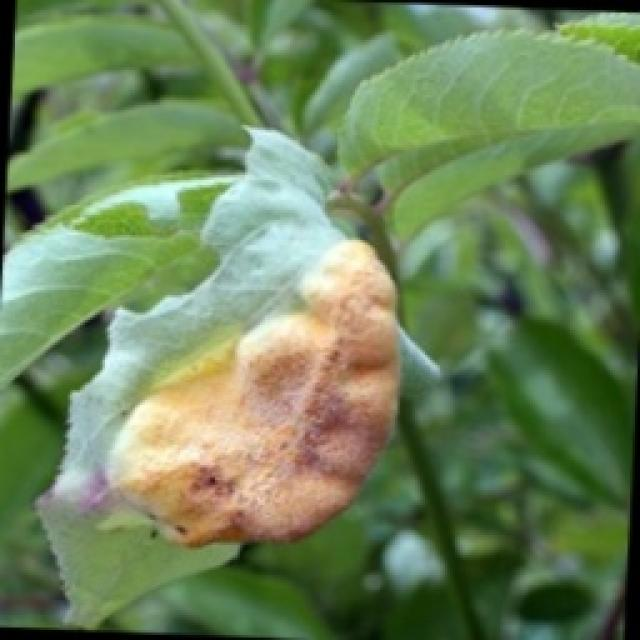Elderberry_rust: (102, 235, 402, 547)
